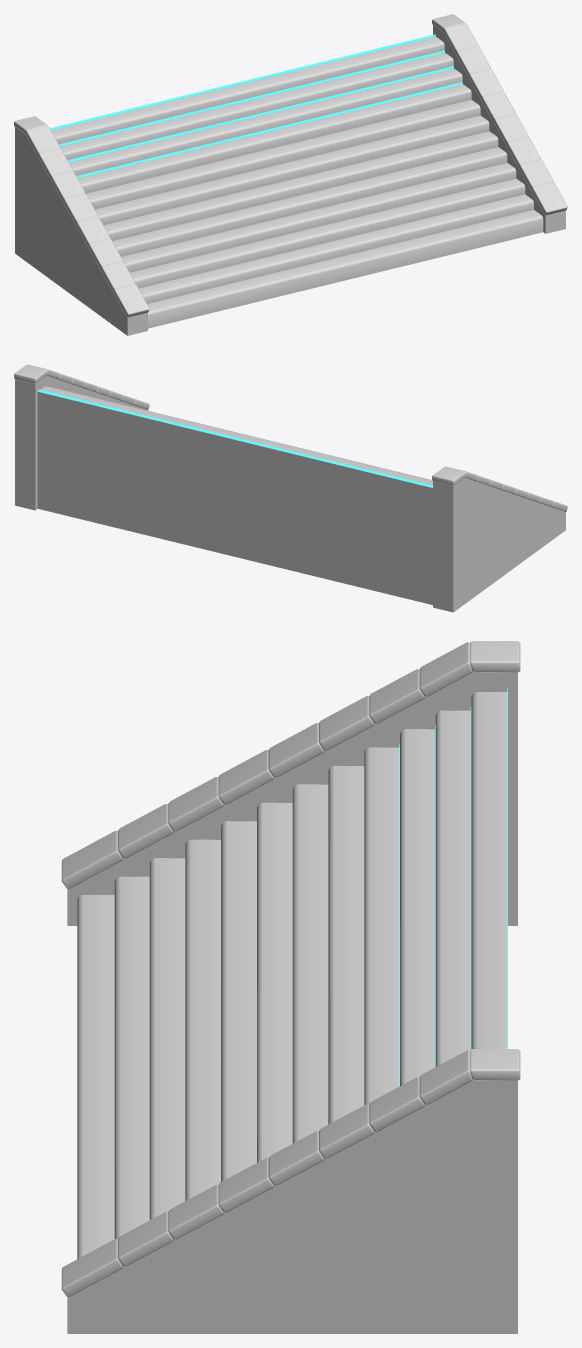
File: DiscoEscaleras.fbx
3 views of the same model, one above another, from view 1: azimuth 30°, elevation 25°; view 2: azimuth 150°, elevation 25°; view 3: azimuth 270°, elevation 25° (orthographic). The views are drawn at different scales.
Parts seen in each view (by area): view 1: fence_002.010, fence_002.011; view 2: fence_002.010, fence_002.011; view 3: fence_002.010, fence_002.011.
Part boxes in pixels (x1,y1,x2,y2): fence_002.010: (14,14,567,335); fence_002.011: (50,34,462,177); fence_002.010: (14,364,567,612); fence_002.011: (37,389,432,487); fence_002.010: (61,641,520,1333); fence_002.011: (399,688,507,1086).
Size of the model in its own units: 13 by 3.74 by 5.86.
